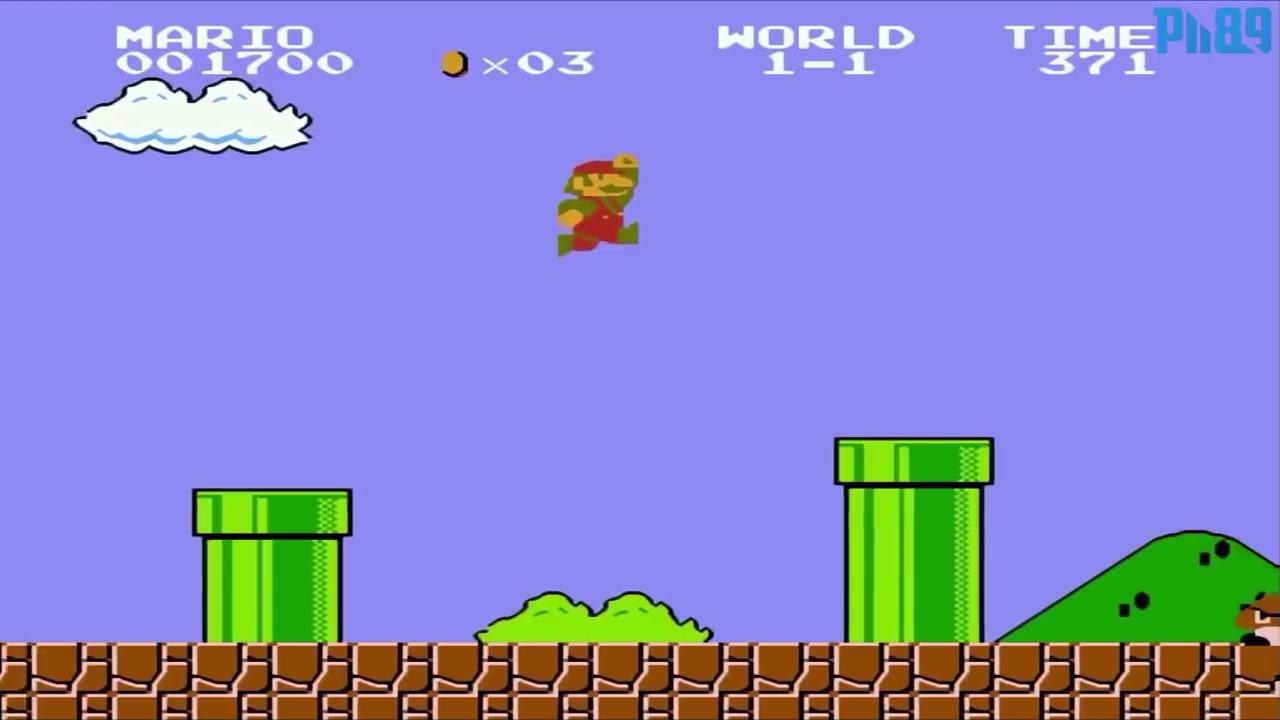mario: (551, 147, 647, 269)
